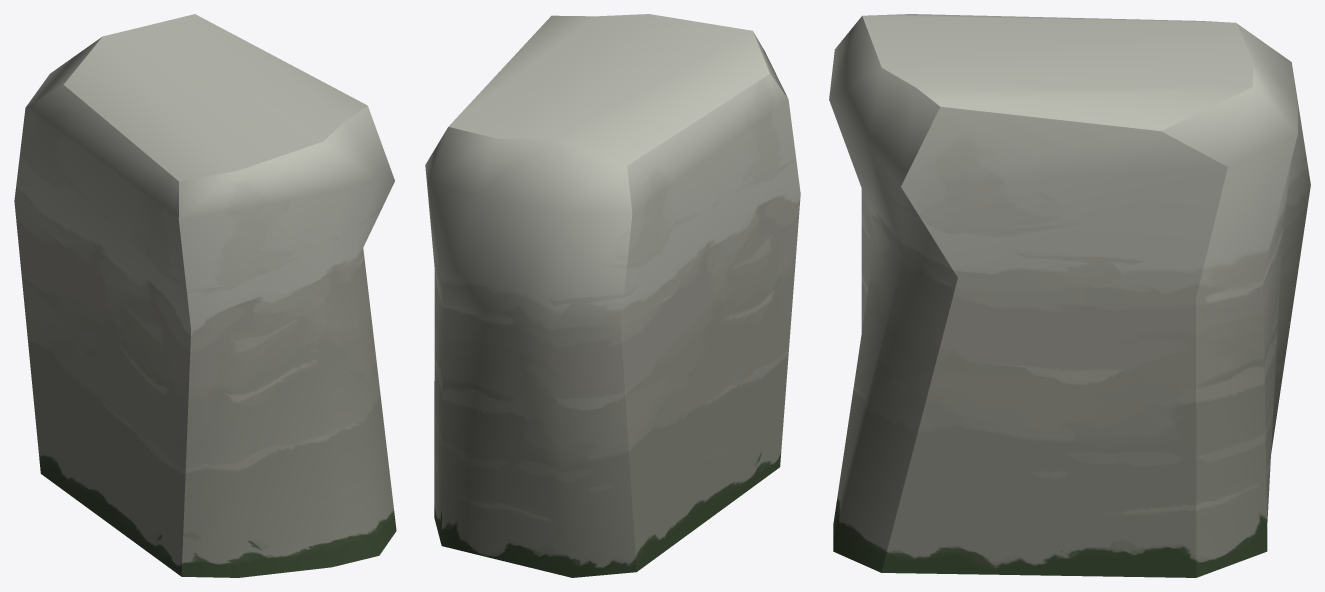
The model's file is Stone_02.fbx.
The picture shows the model from 3 angles, left to right: view 1: azimuth 30°, elevation 25°; view 2: azimuth 150°, elevation 25°; view 3: azimuth 270°, elevation 25°; orthographic projection. The views are drawn at different scales.
Visible parts, largest first — view 1: StoneBlock_01; view 2: StoneBlock_01; view 3: StoneBlock_01.
Part boxes in pixels (x1,y1,x2,y2): StoneBlock_01: [14, 14, 396, 577]; StoneBlock_01: [425, 14, 800, 577]; StoneBlock_01: [829, 14, 1310, 577].
Bounding box in the file's own units: 2.98 × 5.39 × 4.93.
